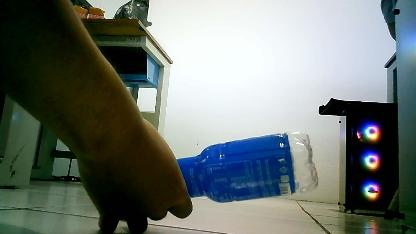Plastic Bottle: (152, 130, 336, 210)
